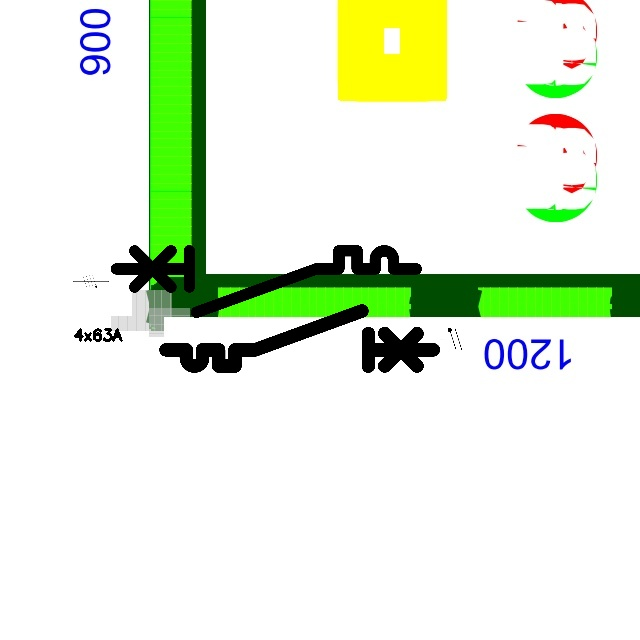interruptor_termomagnetico: (108, 243, 424, 320), (159, 304, 440, 373)
